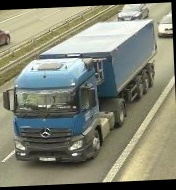truck: (0, 20, 160, 166)
